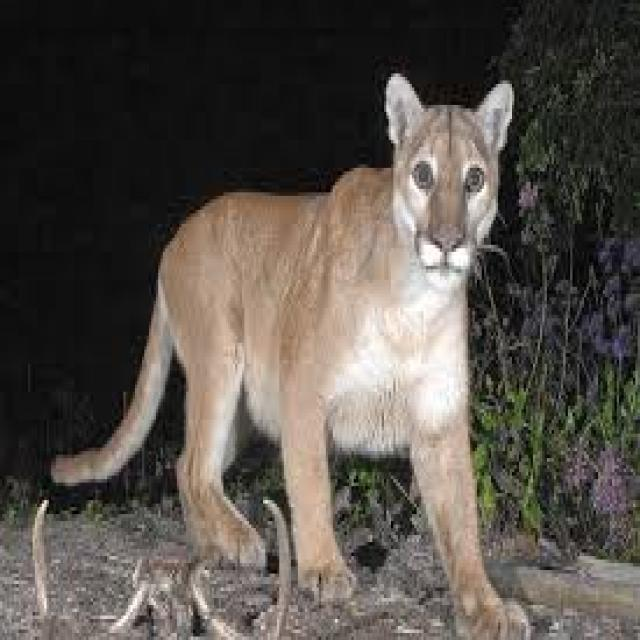Lion: (53, 67, 531, 637)
